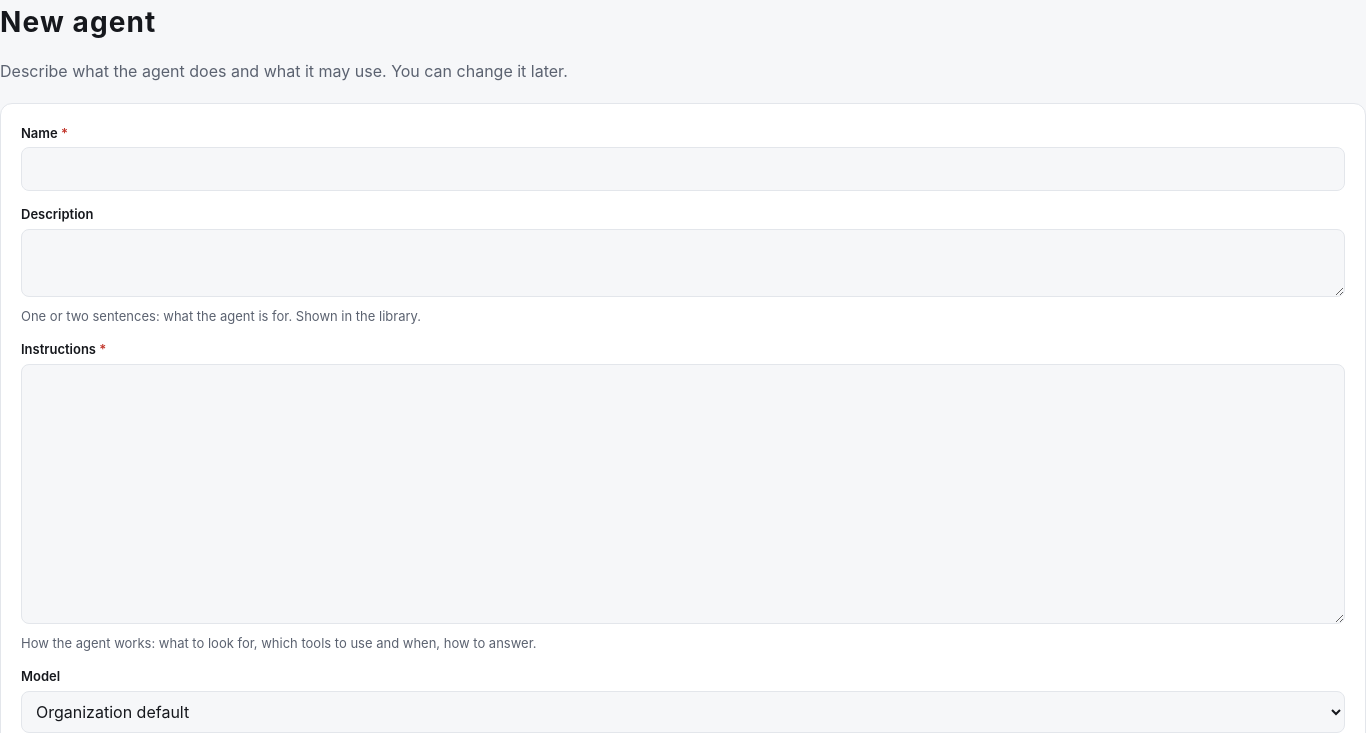
Test: AgentFormPage › says so when the caller may not create agents
The width and height of the screenshot is (1366, 733).
Type "Writer" into the field labelled "Name" at coordinates (683, 169), box [21,147,1345,191]
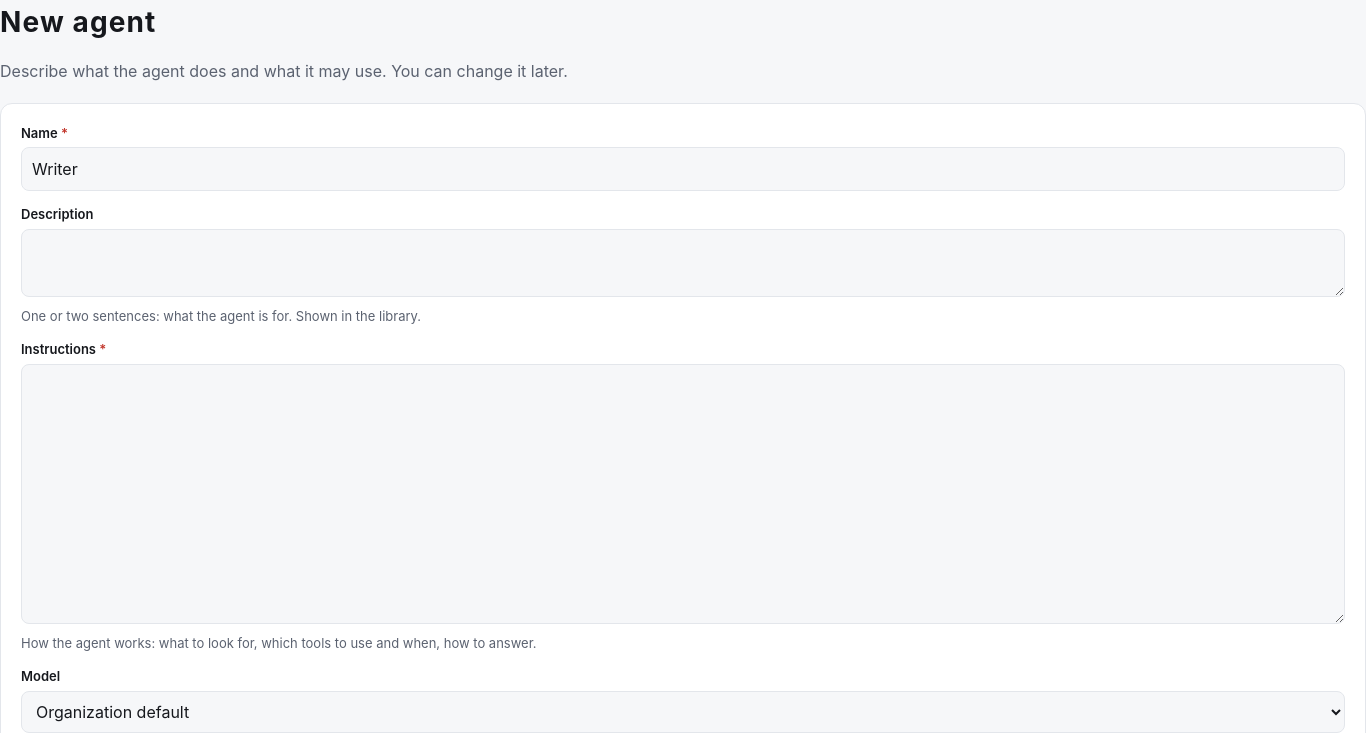
Type "Write." into the text box labelled "Instructions" at coordinates (683, 494), box [21,364,1345,624]
(page scrolled)
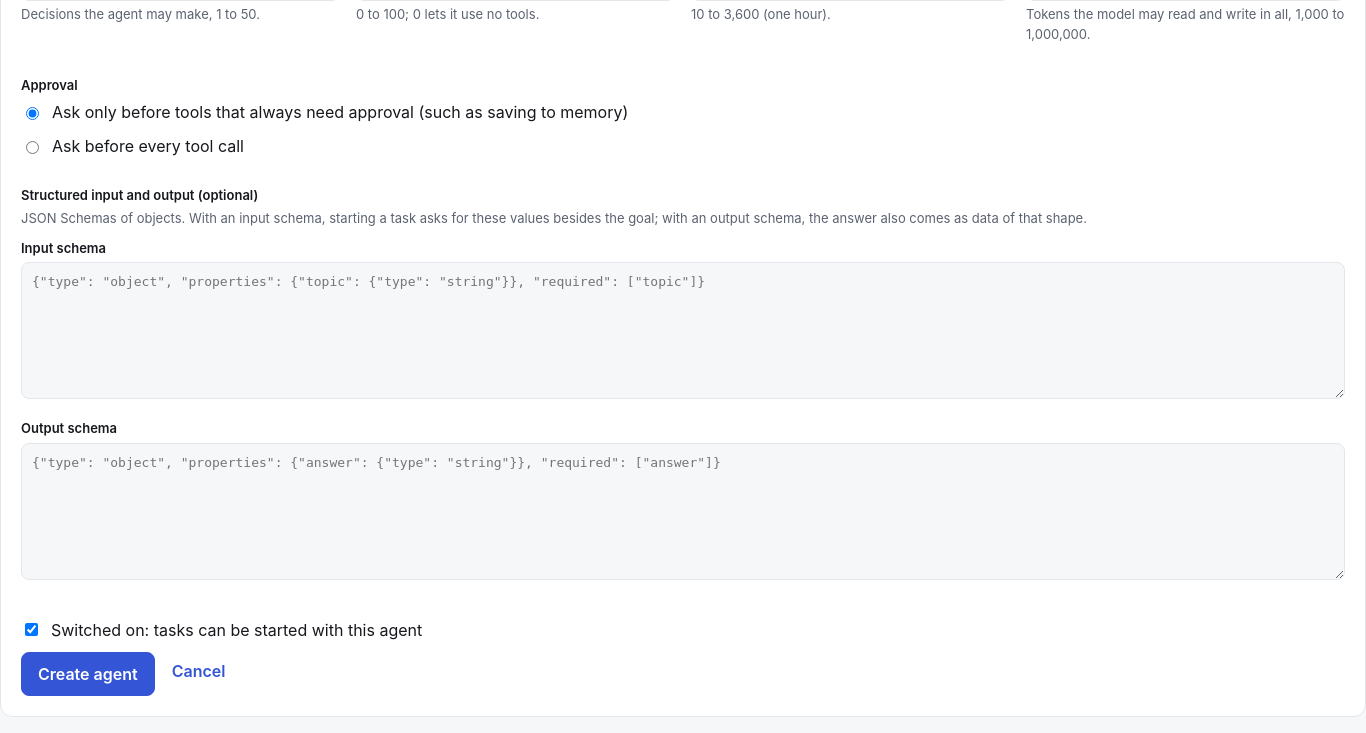
Click the button "Create agent" at coordinates (88, 674), box [21,652,155,696]
(page scrolled)
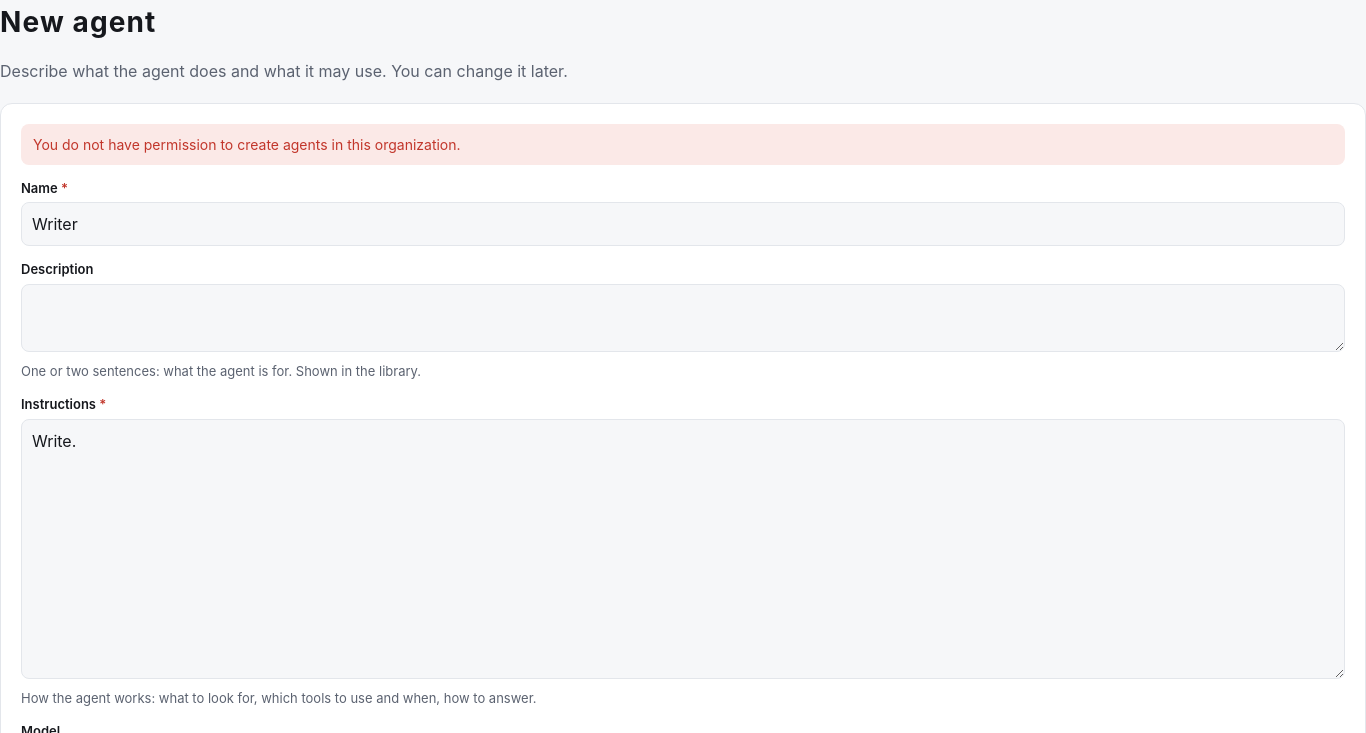
Check: the message reads "You do not have permission to create agents in this organization.", box [33,136,461,152]
